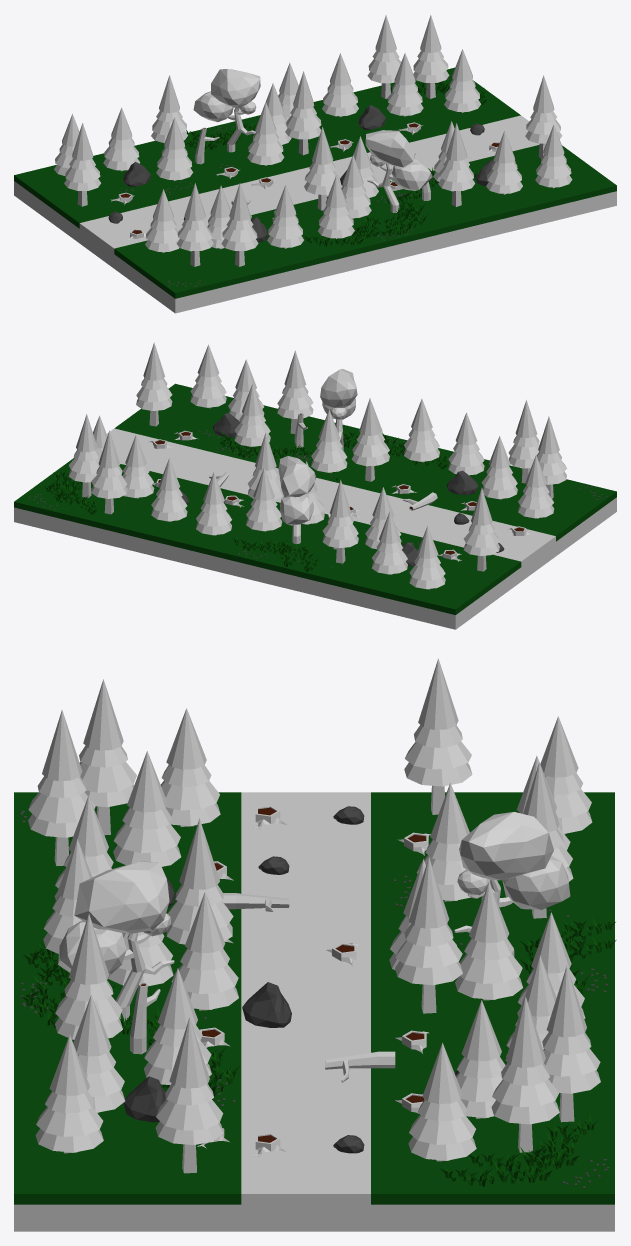
Rendered from Bosque.obj.
3 renders of one model, top to bottom at view 1: azimuth 30°, elevation 25°; view 2: azimuth 150°, elevation 25°; view 3: azimuth 270°, elevation 25°, orthographic. The views are drawn at different scales.
Visible parts, largest first — view 1: Plane.005_Plane, Cylinder.011_Cylinder.013, Cylinder.002_Cylinder.030, Plane.027_Plane.046, Plane.008_Plane.051, Plane.029_Plane.047, Plane.007_Plane.050, Plane.024, Plane.019_Plane.062, Plane.022_Plane.037, Plane.017_Plane.060, Plane.018_Plane.061 (+21 smaller); view 2: Plane.005_Plane, Cylinder.011_Cylinder.013, Cylinder.002_Cylinder.030, Plane.029_Plane.047, Plane.022_Plane.037, Plane.017_Plane.060, Plane.018_Plane.061, Plane.034_Plane.048, Plane.019_Plane.062, Plane.024, Plane.016_Plane.059, Plane.028_Plane.041 (+19 smaller); view 3: Plane.005_Plane, Cylinder.002_Cylinder.030, Cylinder.011_Cylinder.013, Plane.018_Plane.061, Plane.027_Plane.046, Plane.024, Plane.029_Plane.047, Plane.008_Plane.051, Plane.022_Plane.037, Plane.016_Plane.059, Plane.023, Plane.007_Plane.050 (+23 smaller).
Boxes of the visible parts, box(x1,y1,x2,y2) form: Plane.005_Plane: box(14, 67, 616, 313); Cylinder.011_Cylinder.013: box(193, 69, 260, 152); Cylinder.002_Cylinder.030: box(365, 130, 432, 212); Plane.027_Plane.046: box(285, 71, 321, 155); Plane.008_Plane.051: box(221, 183, 258, 266); Plane.029_Plane.047: box(64, 123, 100, 206); Plane.007_Plane.050: box(176, 183, 213, 266); Plane.024: box(413, 15, 449, 98); Plane.019_Plane.062: box(438, 123, 474, 206); Plane.022_Plane.037: box(367, 15, 401, 98); Plane.017_Plane.060: box(304, 126, 339, 210); Plane.018_Plane.061: box(525, 75, 562, 158); Plane.005_Plane: box(14, 383, 616, 629); Cylinder.011_Cylinder.013: box(278, 456, 315, 543); Cylinder.002_Cylinder.030: box(320, 369, 357, 450); Plane.029_Plane.047: box(463, 487, 499, 571); Plane.022_Plane.037: box(91, 430, 127, 514); Plane.017_Plane.060: box(351, 398, 388, 481); Plane.018_Plane.061: box(136, 342, 172, 426); Plane.034_Plane.048: box(322, 480, 358, 563); Plane.019_Plane.062: box(277, 350, 313, 434); Plane.024: box(68, 414, 99, 497); Plane.016_Plane.059: box(190, 344, 226, 408); Plane.028_Plane.041: box(246, 468, 282, 531); Plane.005_Plane: box(14, 792, 614, 1231); Cylinder.002_Cylinder.030: box(58, 861, 174, 1021); Cylinder.011_Cylinder.013: box(454, 812, 570, 956); Plane.018_Plane.061: box(155, 1017, 223, 1173); Plane.027_Plane.046: box(395, 857, 462, 1013); Plane.024: box(491, 996, 559, 1152); Plane.029_Plane.047: box(404, 658, 472, 814); Plane.008_Plane.051: box(28, 709, 95, 865); Plane.022_Plane.037: box(542, 965, 600, 1122); Plane.016_Plane.059: box(35, 1034, 103, 1153); Plane.023: box(408, 1042, 476, 1161); Plane.007_Plane.050: box(79, 679, 136, 835).
Size of the model in its own units: 68.4 by 15.2 by 43.4.
